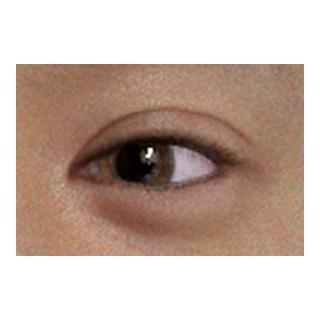pupil: (115, 144, 155, 184)
